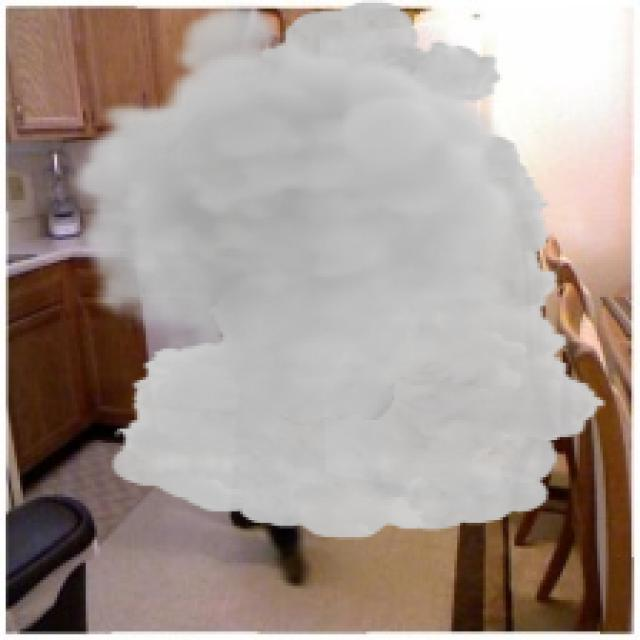smoke: (69, 0, 608, 540)
